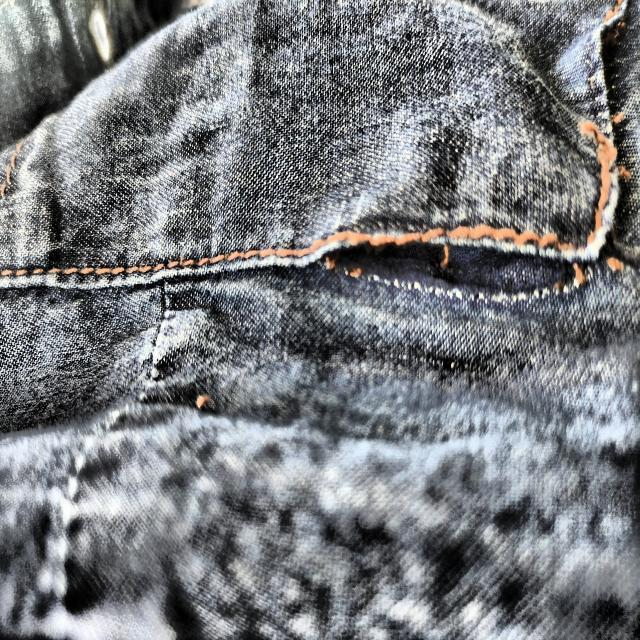gray stitch: (315, 196, 606, 311)
